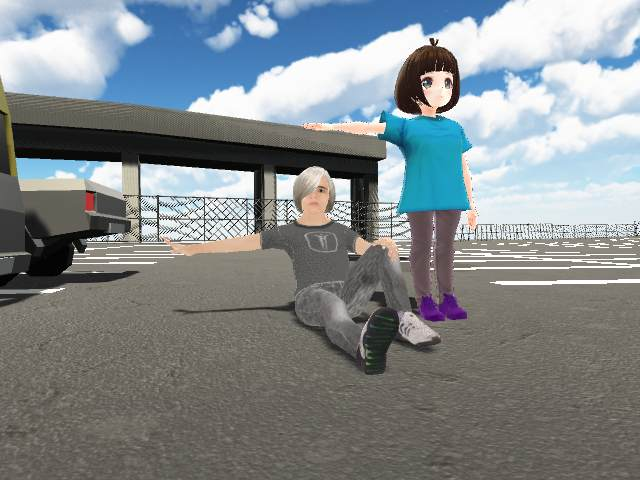doubleP_left: (156, 44, 484, 376)
